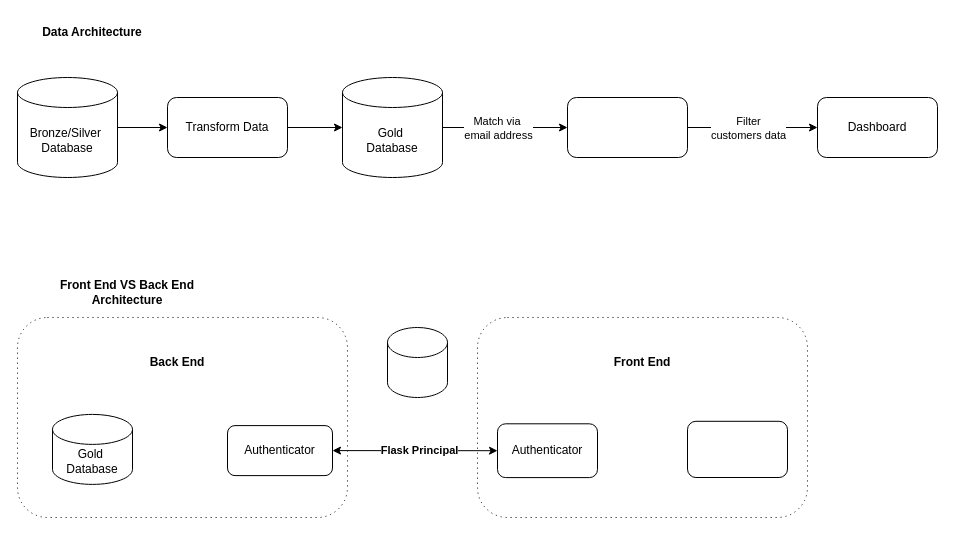
Image size: 955x535. Some labels were removed from this diagram. Here are the shapes that lost their labels. From the top down, the box of each, then its label:
(566, 96, 688, 158): Authenticate (IAM) to customer ID
(386, 326, 448, 398): Flask OAuth
(686, 420, 788, 478): Flask Dashboard
